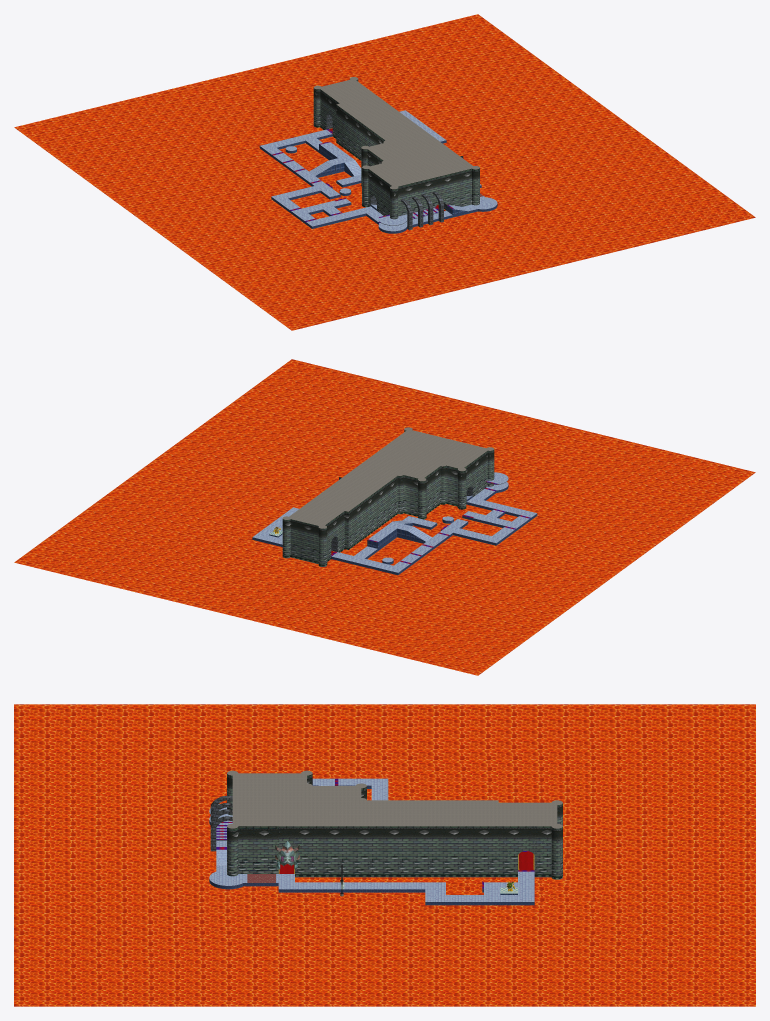
3 views of the same model, one above another, from view 1: azimuth 30°, elevation 25°; view 2: azimuth 150°, elevation 25°; view 3: azimuth 270°, elevation 25° (orthographic). The views are drawn at different scales.
Parts seen in each view (by area): view 1: AutoSave_Bowser_Castle_track_v2_1-SKP--lave_out_of_bounds, AutoSave_Bowser_Castle_track_v2_1-SKP--sign_stomps_wall, AutoSave_Bowser_Castle_track_v2_1-SKP--outer_castle_wall, AutoSave_Bowser_Castle_track_v2_1-SKP--road, AutoSave_Bowser_Castle_track_v2_1-SKP--lava_glow_wall, AutoSave_Bowser_Castle_track_v2_1-SKP--inside_castle_wall; view 2: AutoSave_Bowser_Castle_track_v2_1-SKP--lave_out_of_bounds, AutoSave_Bowser_Castle_track_v2_1-SKP--outer_castle_wall, AutoSave_Bowser_Castle_track_v2_1-SKP--sign_stomps_wall, AutoSave_Bowser_Castle_track_v2_1-SKP--road, AutoSave_Bowser_Castle_track_v2_1-SKP--lava_glow_wall; view 3: AutoSave_Bowser_Castle_track_v2_1-SKP--lave_out_of_bounds, AutoSave_Bowser_Castle_track_v2_1-SKP--outer_castle_wall, AutoSave_Bowser_Castle_track_v2_1-SKP--sign_stomps_wall, AutoSave_Bowser_Castle_track_v2_1-SKP--road, AutoSave_Bowser_Castle_track_v2_1-SKP--lava_glow_wall, AutoSave_Bowser_Castle_track_v2_1-SKP--inside_castle_wall.
Boxes of the visible parts, <box> form: AutoSave_Bowser_Castle_track_v2_1-SKP--lave_out_of_bounds: <box>14,14,755,330</box>; AutoSave_Bowser_Castle_track_v2_1-SKP--sign_stomps_wall: <box>314,77,479,189</box>; AutoSave_Bowser_Castle_track_v2_1-SKP--outer_castle_wall: <box>313,79,479,219</box>; AutoSave_Bowser_Castle_track_v2_1-SKP--road: <box>260,110,497,231</box>; AutoSave_Bowser_Castle_track_v2_1-SKP--lava_glow_wall: <box>259,134,497,233</box>; AutoSave_Bowser_Castle_track_v2_1-SKP--inside_castle_wall: <box>326,114,446,230</box>; AutoSave_Bowser_Castle_track_v2_1-SKP--lave_out_of_bounds: <box>14,359,755,675</box>; AutoSave_Bowser_Castle_track_v2_1-SKP--outer_castle_wall: <box>282,430,494,566</box>; AutoSave_Bowser_Castle_track_v2_1-SKP--sign_stomps_wall: <box>282,427,493,528</box>; AutoSave_Bowser_Castle_track_v2_1-SKP--road: <box>253,472,536,572</box>; AutoSave_Bowser_Castle_track_v2_1-SKP--lava_glow_wall: <box>252,485,537,575</box>; AutoSave_Bowser_Castle_track_v2_1-SKP--lave_out_of_bounds: <box>14,704,755,1006</box>; AutoSave_Bowser_Castle_track_v2_1-SKP--outer_castle_wall: <box>227,774,562,879</box>; AutoSave_Bowser_Castle_track_v2_1-SKP--sign_stomps_wall: <box>227,770,562,896</box>; AutoSave_Bowser_Castle_track_v2_1-SKP--road: <box>209,778,534,901</box>; AutoSave_Bowser_Castle_track_v2_1-SKP--lava_glow_wall: <box>209,785,534,905</box>; AutoSave_Bowser_Castle_track_v2_1-SKP--inside_castle_wall: <box>209,796,232,851</box>.
Bounding box in the file's own units: 170007 × 13576 × 176346.
Materials: 19 (19 with a texture image).
